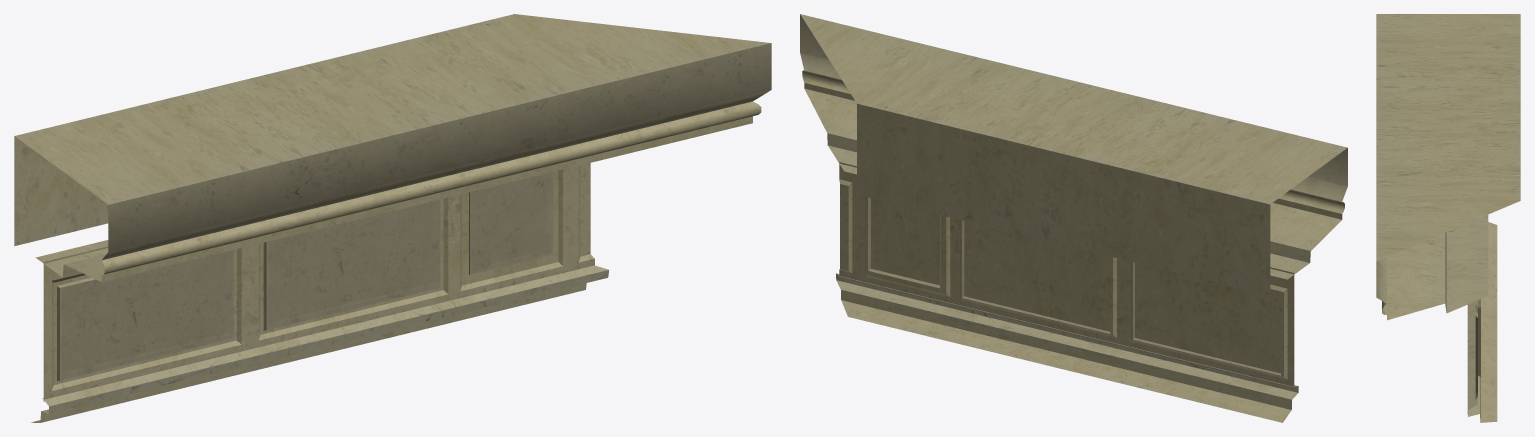
Rendered from Cornice_Marble_R.gltf.
3 views of the same model, side by side, from view 1: azimuth 30°, elevation 25°; view 2: azimuth 150°, elevation 25°; view 3: azimuth 270°, elevation 25° (orthographic). The views are drawn at different scales.
Visible parts, largest first — view 1: Cornice_Marble_R; view 2: Cornice_Marble_R; view 3: Cornice_Marble_R.
Boxes of the visible parts, x1,y1,x2,y2 form: Cornice_Marble_R: [14, 14, 771, 422]; Cornice_Marble_R: [800, 14, 1347, 422]; Cornice_Marble_R: [1376, 14, 1520, 422].
Size of the model in its own units: 2.52 by 1 by 0.6185.
2 materials, 2 textured.
